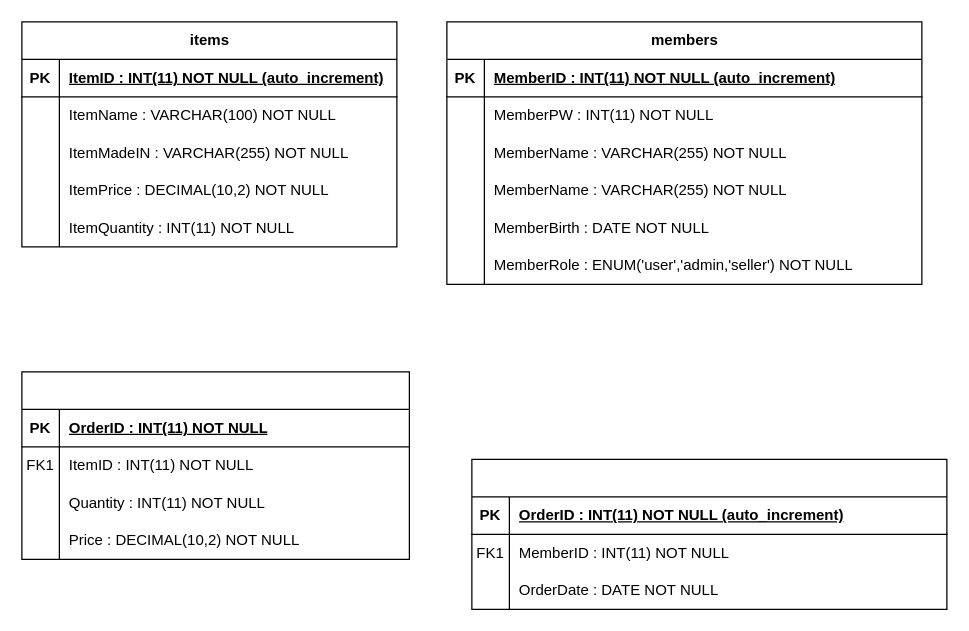
The diagram is 969 pixels wide and 631 high, and some of its shapes have lost their labels. The box of each missing label's shape, as (x1, y1, x2, y2) in pixels:
orderdetails: (21, 371, 409, 559)
orders: (471, 458, 947, 609)
